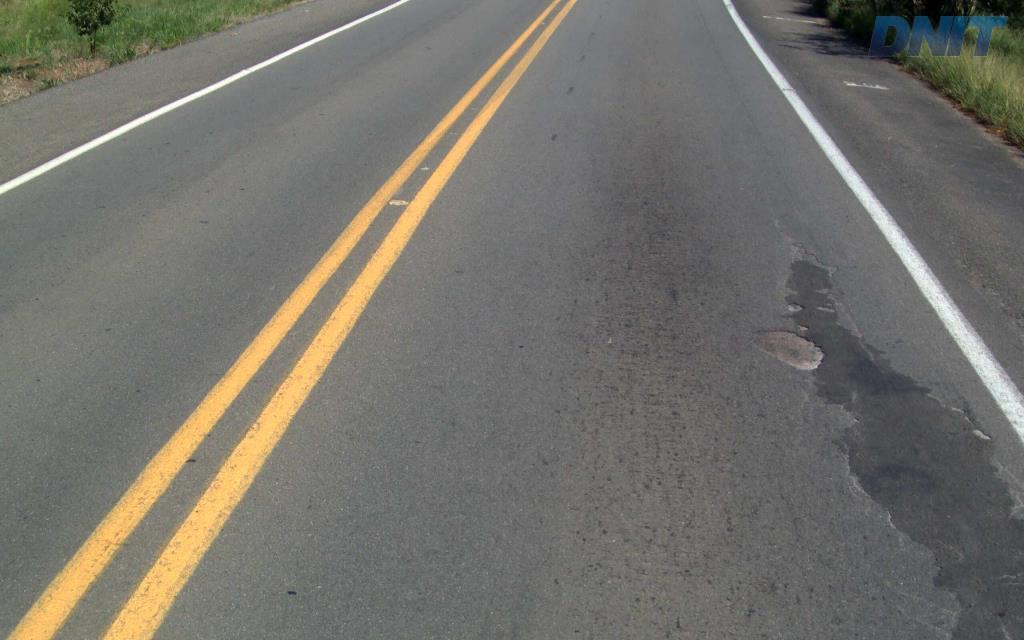pothole: (748, 321, 825, 386), (784, 302, 801, 312)
